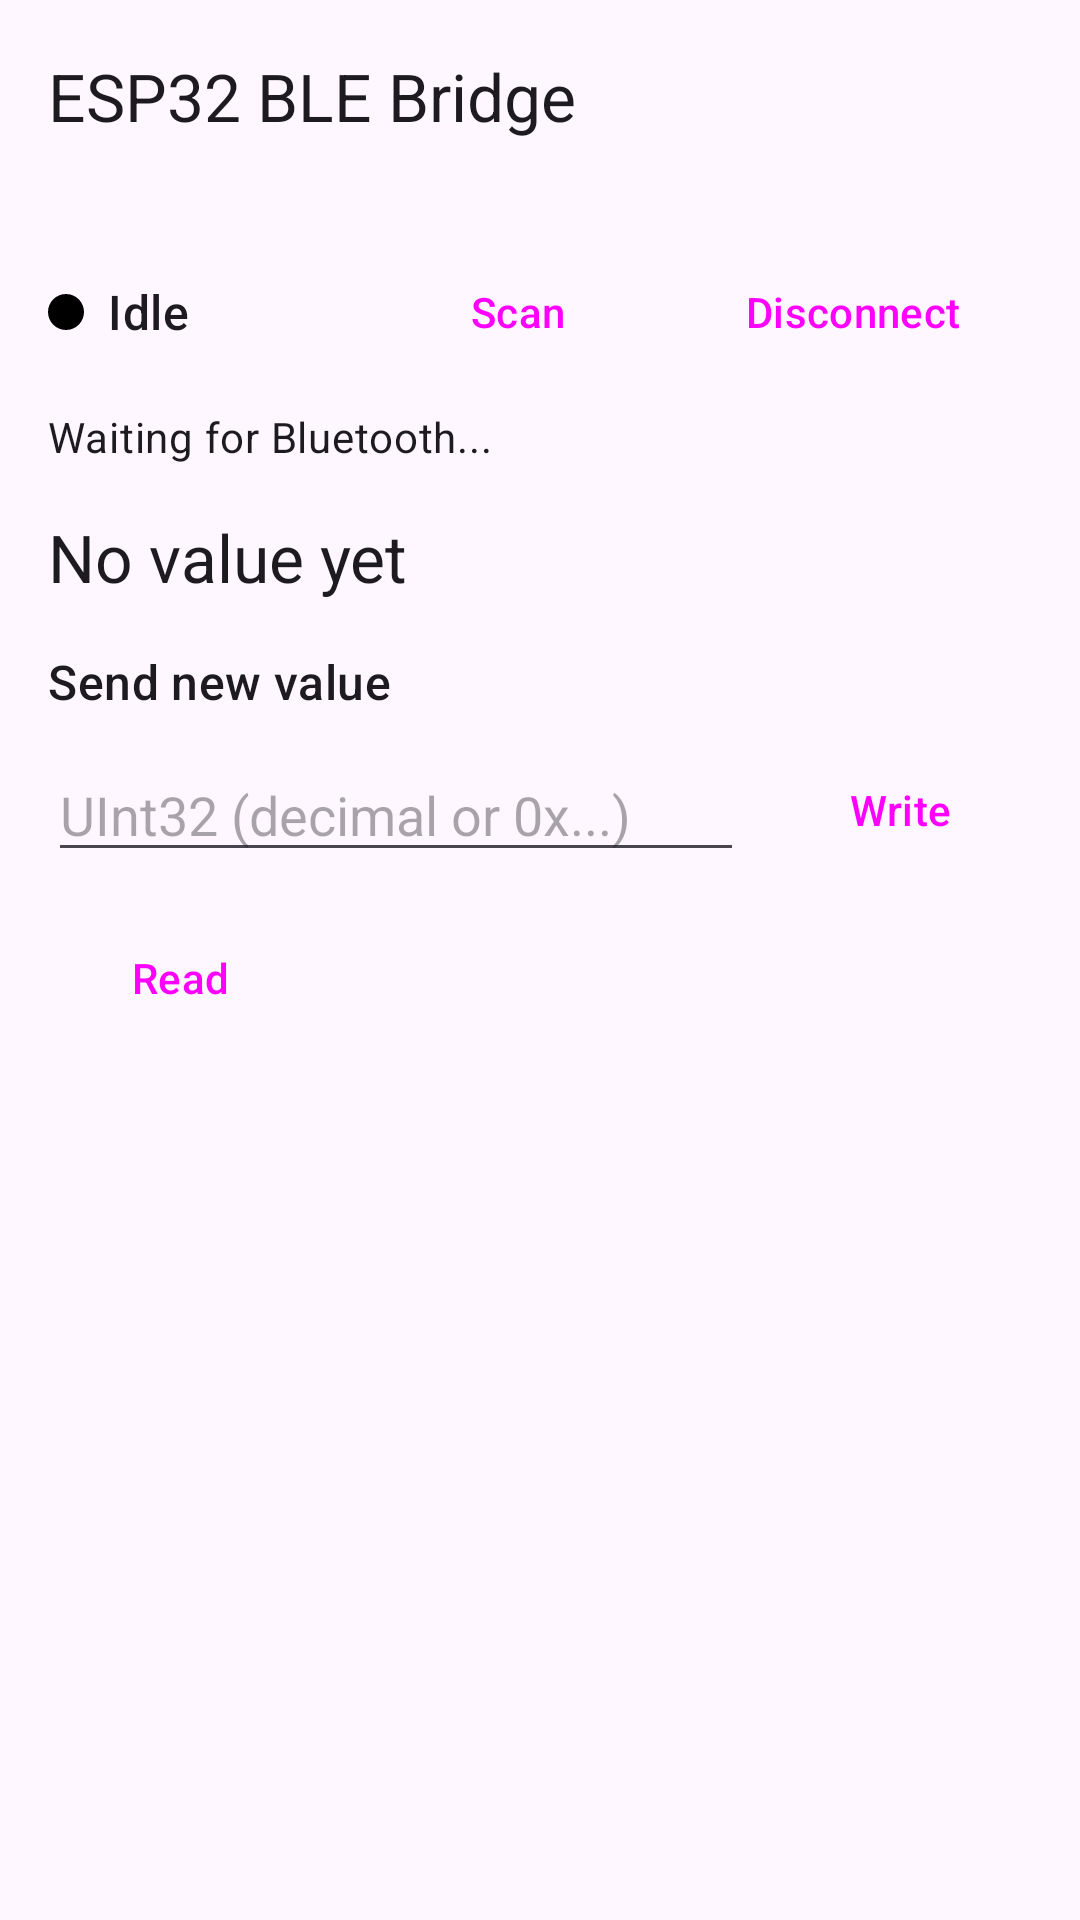

Where to tap for icons on this 1080x1920 app screen, as [x,y]:
status dot: [66,312]
